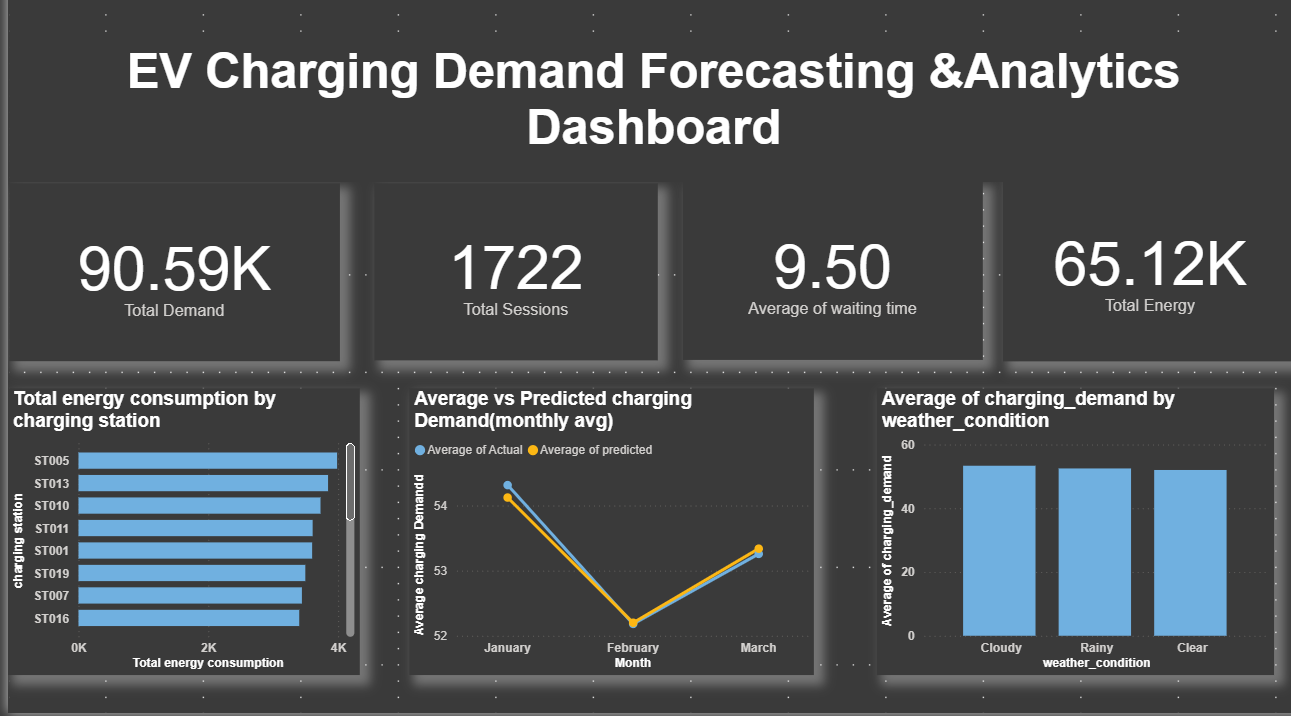

Layout of this report page (visuals, bound fields, positions):
{"tool":"powerbi","page":{"name":"page1","canvas":[1280,720],"ordinal":0},"visuals":[{"type":"card","fields":{"Values":["electrical_chrg_data.Total Demand"]},"box":[1.4,197.6,325.6,175.3],"z":0},{"type":"card","fields":{"Values":["electrical_chrg_data.Total Sessions"]},"box":[360.6,198.2,279.4,174.8],"z":1000},{"type":"card","fields":{"Values":["Avg(electrical_chrg_data.waiting_time)"]},"box":[665,197.5,295,175],"z":2000},{"type":"card","fields":{"Values":["electrical_chrg_data.Total Energy"]},"box":[980,190,290,183.8],"z":3000},{"type":"textbox","box":[1.4,55.7,1268.9,141.9],"z":4000},{"type":"clusteredBarChart","fields":{"Category":["electrical_chrg_data.station_id"],"Y":["electrical_chrg_data.Total energy consumption"]},"box":[0,400,346.2,282.5],"z":5000},{"type":"clusteredColumnChart","fields":{"Category":["electrical_chrg_data.weather_condition"],"Y":["Avg(electrical_chrg_data.charging_demand)"]},"box":[855,400,391.2,282.5],"z":6000},{"type":"lineChart","title":"Average vs Predicted charging Demand(monthly avg)","fields":{"Category":["predicted_output.charging_start_time.Variation.Date Hierarchy.Month"],"Y":["Avg(predicted_output.Actual)","Avg(predicted_output.predicted)"]},"box":[395,400,398.8,282.5],"z":7000}]}

Visuals, with their boxes in screenshot pixels (x1, y1, x2, y2), scaled from the page's 1280x720 canvas onto the 1291x716 screenshot:
card - electrical_chrg_data.Total Demand: x1=1, y1=197, x2=330, y2=371
card - electrical_chrg_data.Total Sessions: x1=364, y1=197, x2=646, y2=371
card - Avg(electrical_chrg_data.waiting_time): x1=671, y1=196, x2=968, y2=370
card - electrical_chrg_data.Total Energy: x1=988, y1=189, x2=1281, y2=372
textbox: x1=1, y1=55, x2=1281, y2=197
clusteredBarChart - electrical_chrg_data.station_id x electrical_chrg_data.Total energy consumption: x1=0, y1=398, x2=349, y2=679
clusteredColumnChart - electrical_chrg_data.weather_condition x Avg(electrical_chrg_data.charging_demand): x1=862, y1=398, x2=1257, y2=679
"Average vs Predicted charging Demand(monthly avg)" lineChart: x1=398, y1=398, x2=801, y2=679
